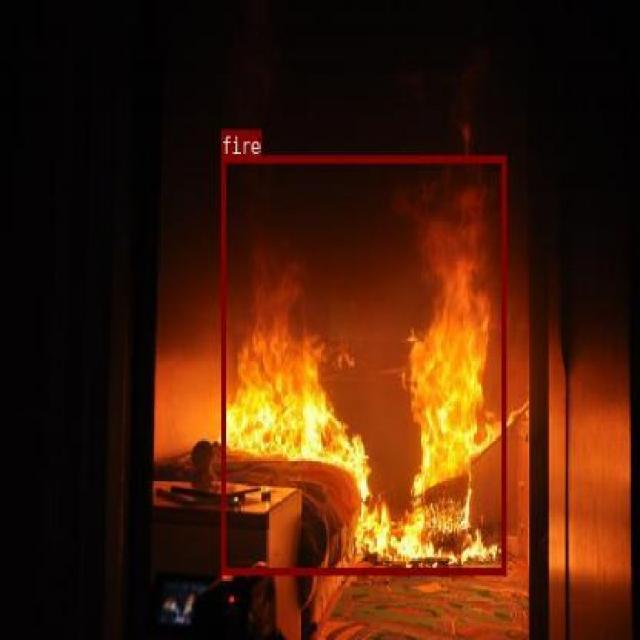fire: (220, 154, 505, 574)
